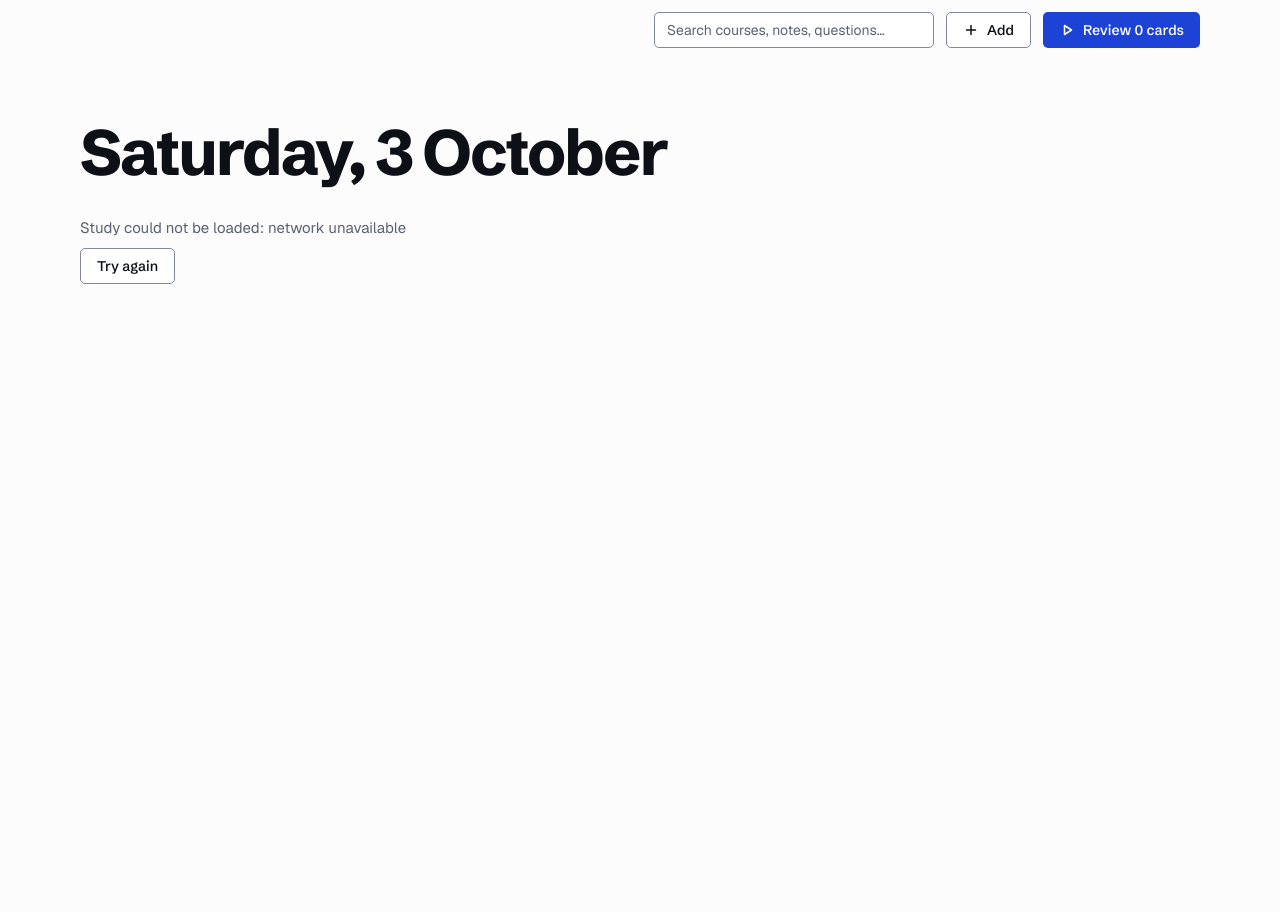
Test: StudyHomeView › says why the study home could not be read, and reads again when asked
The width and height of the screenshot is (1280, 912).
Expected: the message "Study could not be loaded: network unavailable Try again" is shown, [80,218,406,284]
Click the button "Try again". click: x=128, y=266
box: [80,248,175,284]
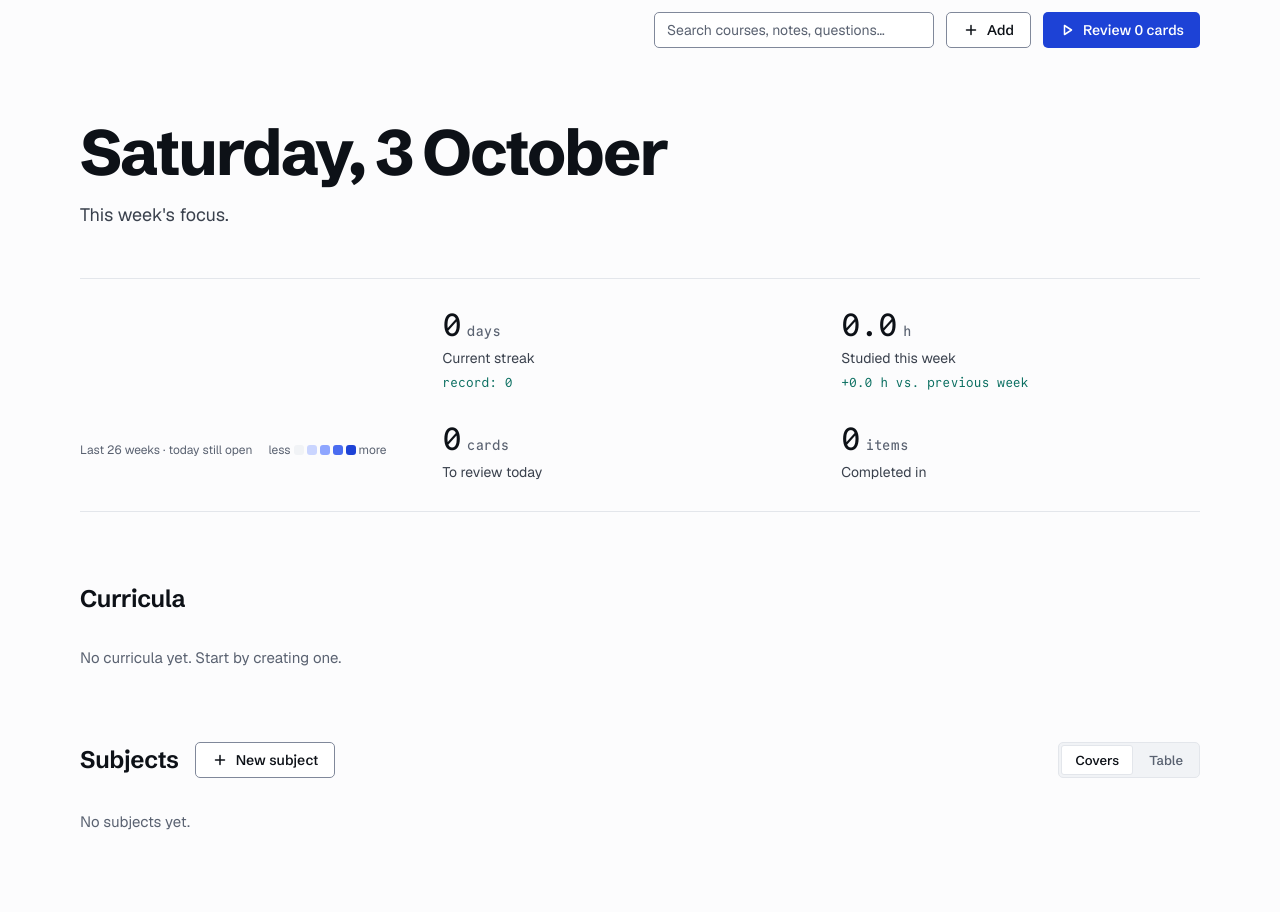
Now the text "No curricula yet" is shown, box [80,648,341,667]
